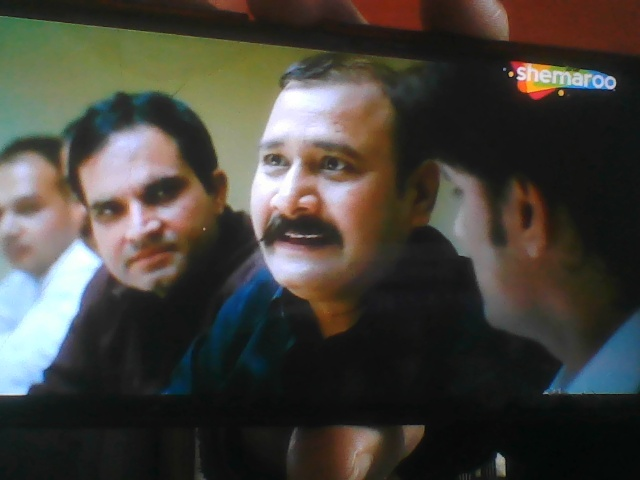fake: (237, 33, 425, 299), (80, 84, 234, 303)
